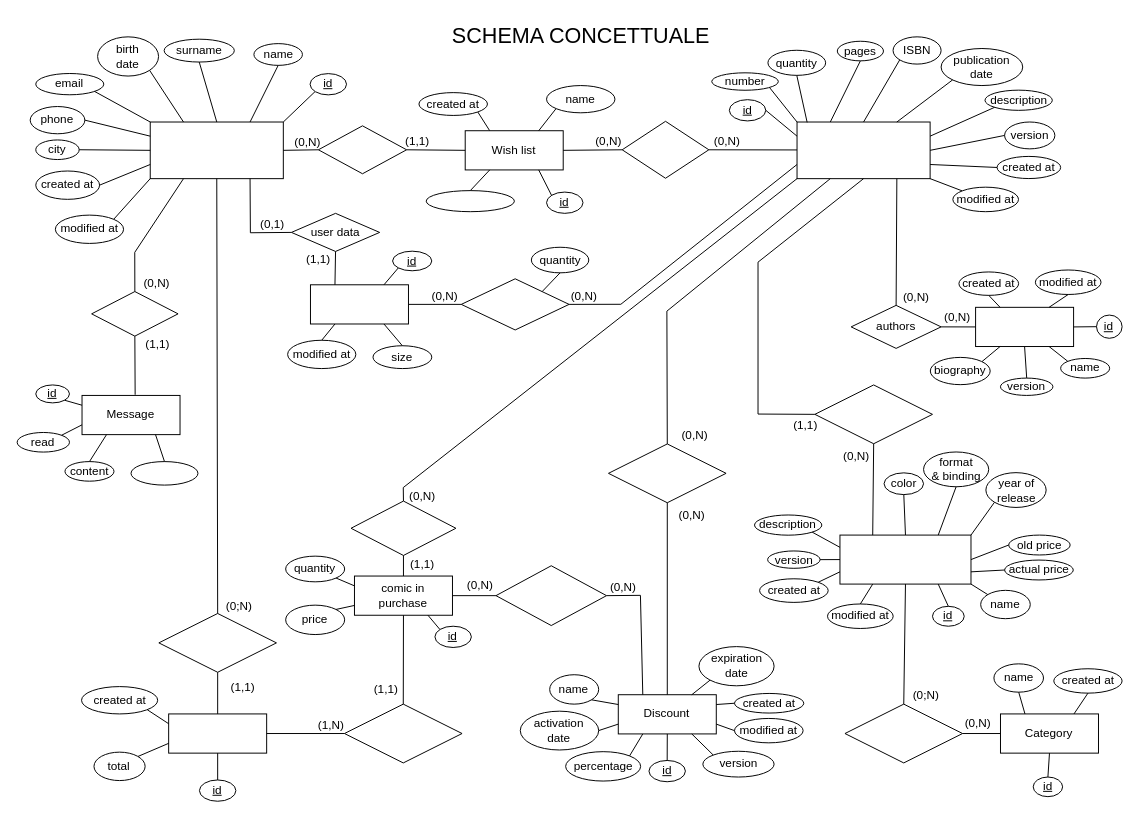
Some shapes in this 1140 by 818 pixel diagram are drawn without their labels. Each missing label, with the box of its shape:
Author: (975, 306, 1074, 347)
cart content: (460, 278, 569, 330)
Cart data: (309, 284, 408, 324)
classification: (844, 703, 963, 763)
Collection: (839, 534, 971, 584)
Comic: (796, 121, 930, 179)
created_at: (130, 461, 198, 485)
discount application: (495, 565, 607, 626)
list content: (621, 120, 709, 178)
notifications: (425, 190, 514, 212)
Personal data: (149, 121, 283, 179)
promotion: (608, 443, 726, 503)
purchase: (168, 713, 267, 753)
